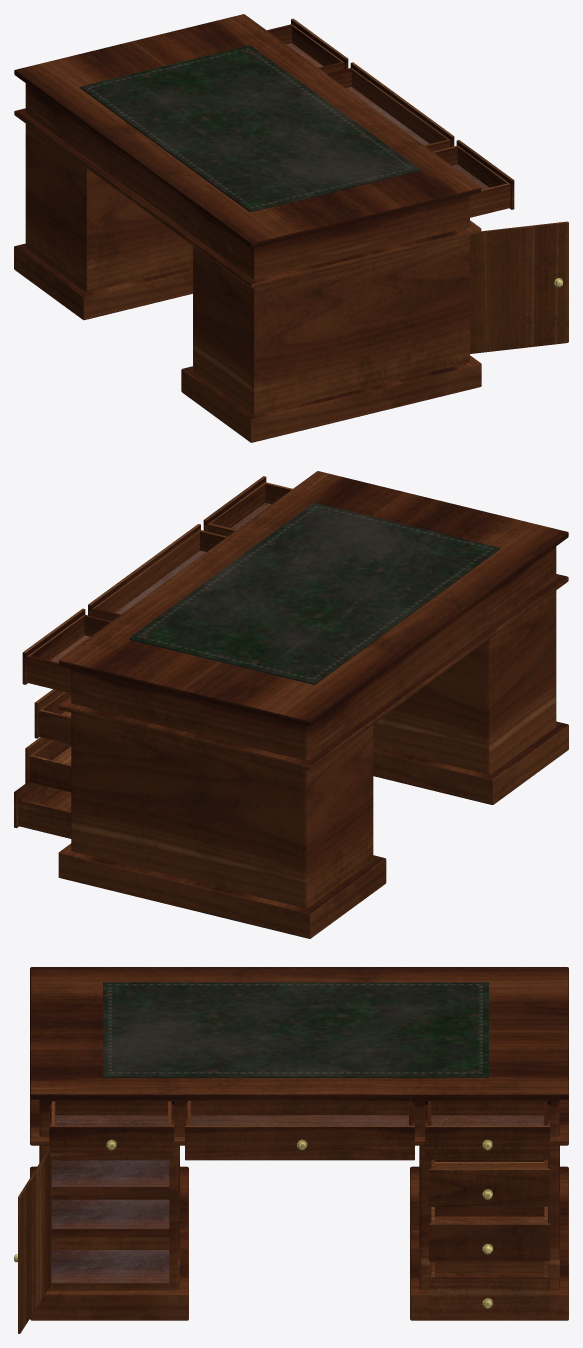
The model's file is victorian_desk.glb.
3 renders of one model, top to bottom at view 1: azimuth 30°, elevation 25°; view 2: azimuth 150°, elevation 25°; view 3: azimuth 270°, elevation 25°, orthographic. The views are drawn at different scales.
Visible parts, largest first — view 1: desk:pCube28, desk:polySurface25, desk:polySurface13, desk:polySurface1, desk:polySurface12; view 2: desk:pCube28, desk:polySurface13, desk:polySurface12, desk:polySurface20, desk:polySurface1, desk:polySurface19, desk:polySurface18; view 3: desk:pCube28, desk:polySurface13, desk:polySurface1, desk:polySurface12, desk:polySurface19, desk:polySurface20, desk:polySurface18, desk:polySurface25.
Boxes of the visible parts, x1,y1,x2,y2 form: desk:pCube28: [14, 14, 481, 442]; desk:polySurface25: [470, 221, 568, 353]; desk:polySurface13: [327, 62, 454, 151]; desk:polySurface1: [433, 140, 514, 217]; desk:polySurface12: [267, 18, 348, 73]; desk:pCube28: [58, 471, 568, 938]; desk:polySurface13: [88, 524, 227, 620]; desk:polySurface12: [22, 608, 111, 693]; desk:polySurface20: [14, 782, 71, 838]; desk:polySurface1: [203, 476, 292, 536]; desk:polySurface19: [25, 737, 71, 792]; desk:polySurface18: [34, 689, 71, 744]; desk:pCube28: [30, 967, 568, 1320]; desk:polySurface13: [185, 1101, 414, 1160]; desk:polySurface1: [49, 1101, 174, 1160]; desk:polySurface12: [425, 1101, 550, 1160]; desk:polySurface19: [429, 1207, 550, 1261]; desk:polySurface20: [429, 1261, 550, 1315]; desk:polySurface18: [429, 1160, 550, 1206]; desk:polySurface25: [14, 1149, 50, 1333].
Bounding box in the file's own units: 159 × 97.84 × 215.
Materials: 1 (1 with a texture image).
